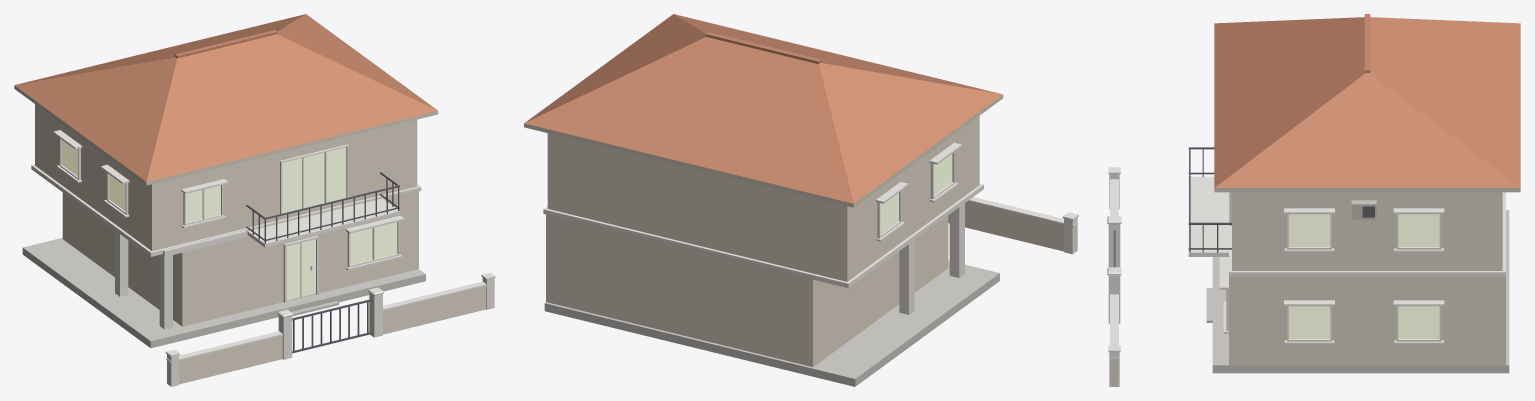
Rendered from SM_Villa_Duplex.fbx.
The picture shows the model from 3 angles, left to right: view 1: azimuth 30°, elevation 25°; view 2: azimuth 150°, elevation 25°; view 3: azimuth 270°, elevation 25°; orthographic projection. The views are drawn at different scales.
Visible parts, largest first — view 1: SM_Villa_Duplex; view 2: SM_Villa_Duplex; view 3: SM_Villa_Duplex.
Boxes of the visible parts, box(x1,y1,x2,y2) form: SM_Villa_Duplex: box(14, 14, 495, 386); SM_Villa_Duplex: box(524, 14, 1078, 386); SM_Villa_Duplex: box(1107, 14, 1520, 386).
Bounding box in the file's own units: 1346 × 878 × 1282.
